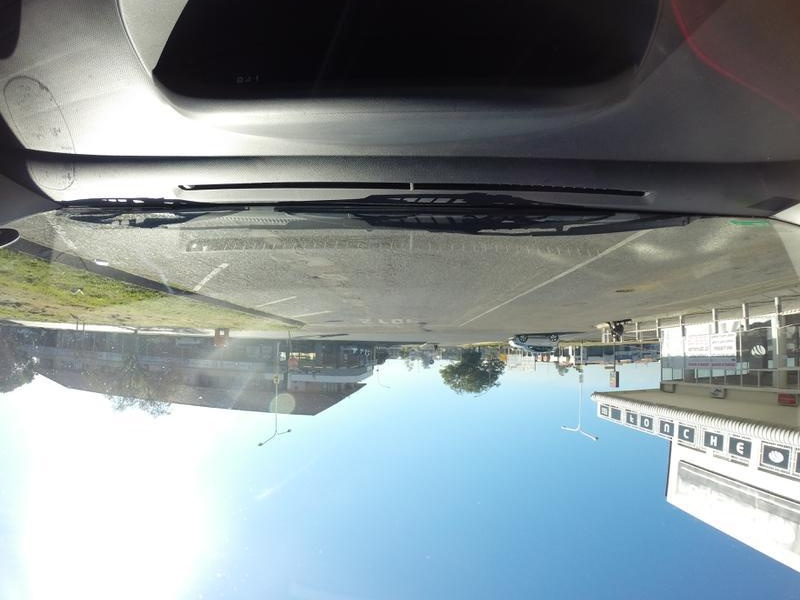pothole: (312, 271, 345, 285), (617, 289, 641, 297)
